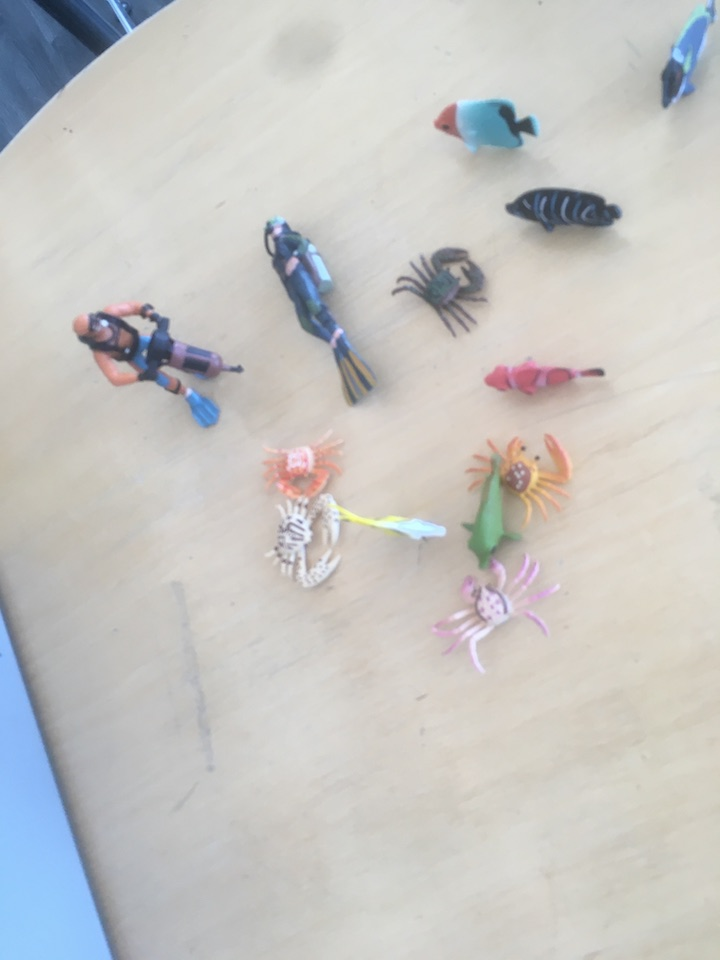crab: (427, 544, 570, 674), (464, 433, 578, 536), (390, 245, 493, 342), (261, 486, 349, 593), (258, 431, 356, 515)
danger: (329, 501, 452, 550)
diver: (258, 212, 381, 409), (68, 300, 248, 434)
fish: (458, 450, 524, 575), (430, 96, 543, 161), (656, 2, 718, 115), (502, 186, 625, 239), (480, 355, 609, 402)
